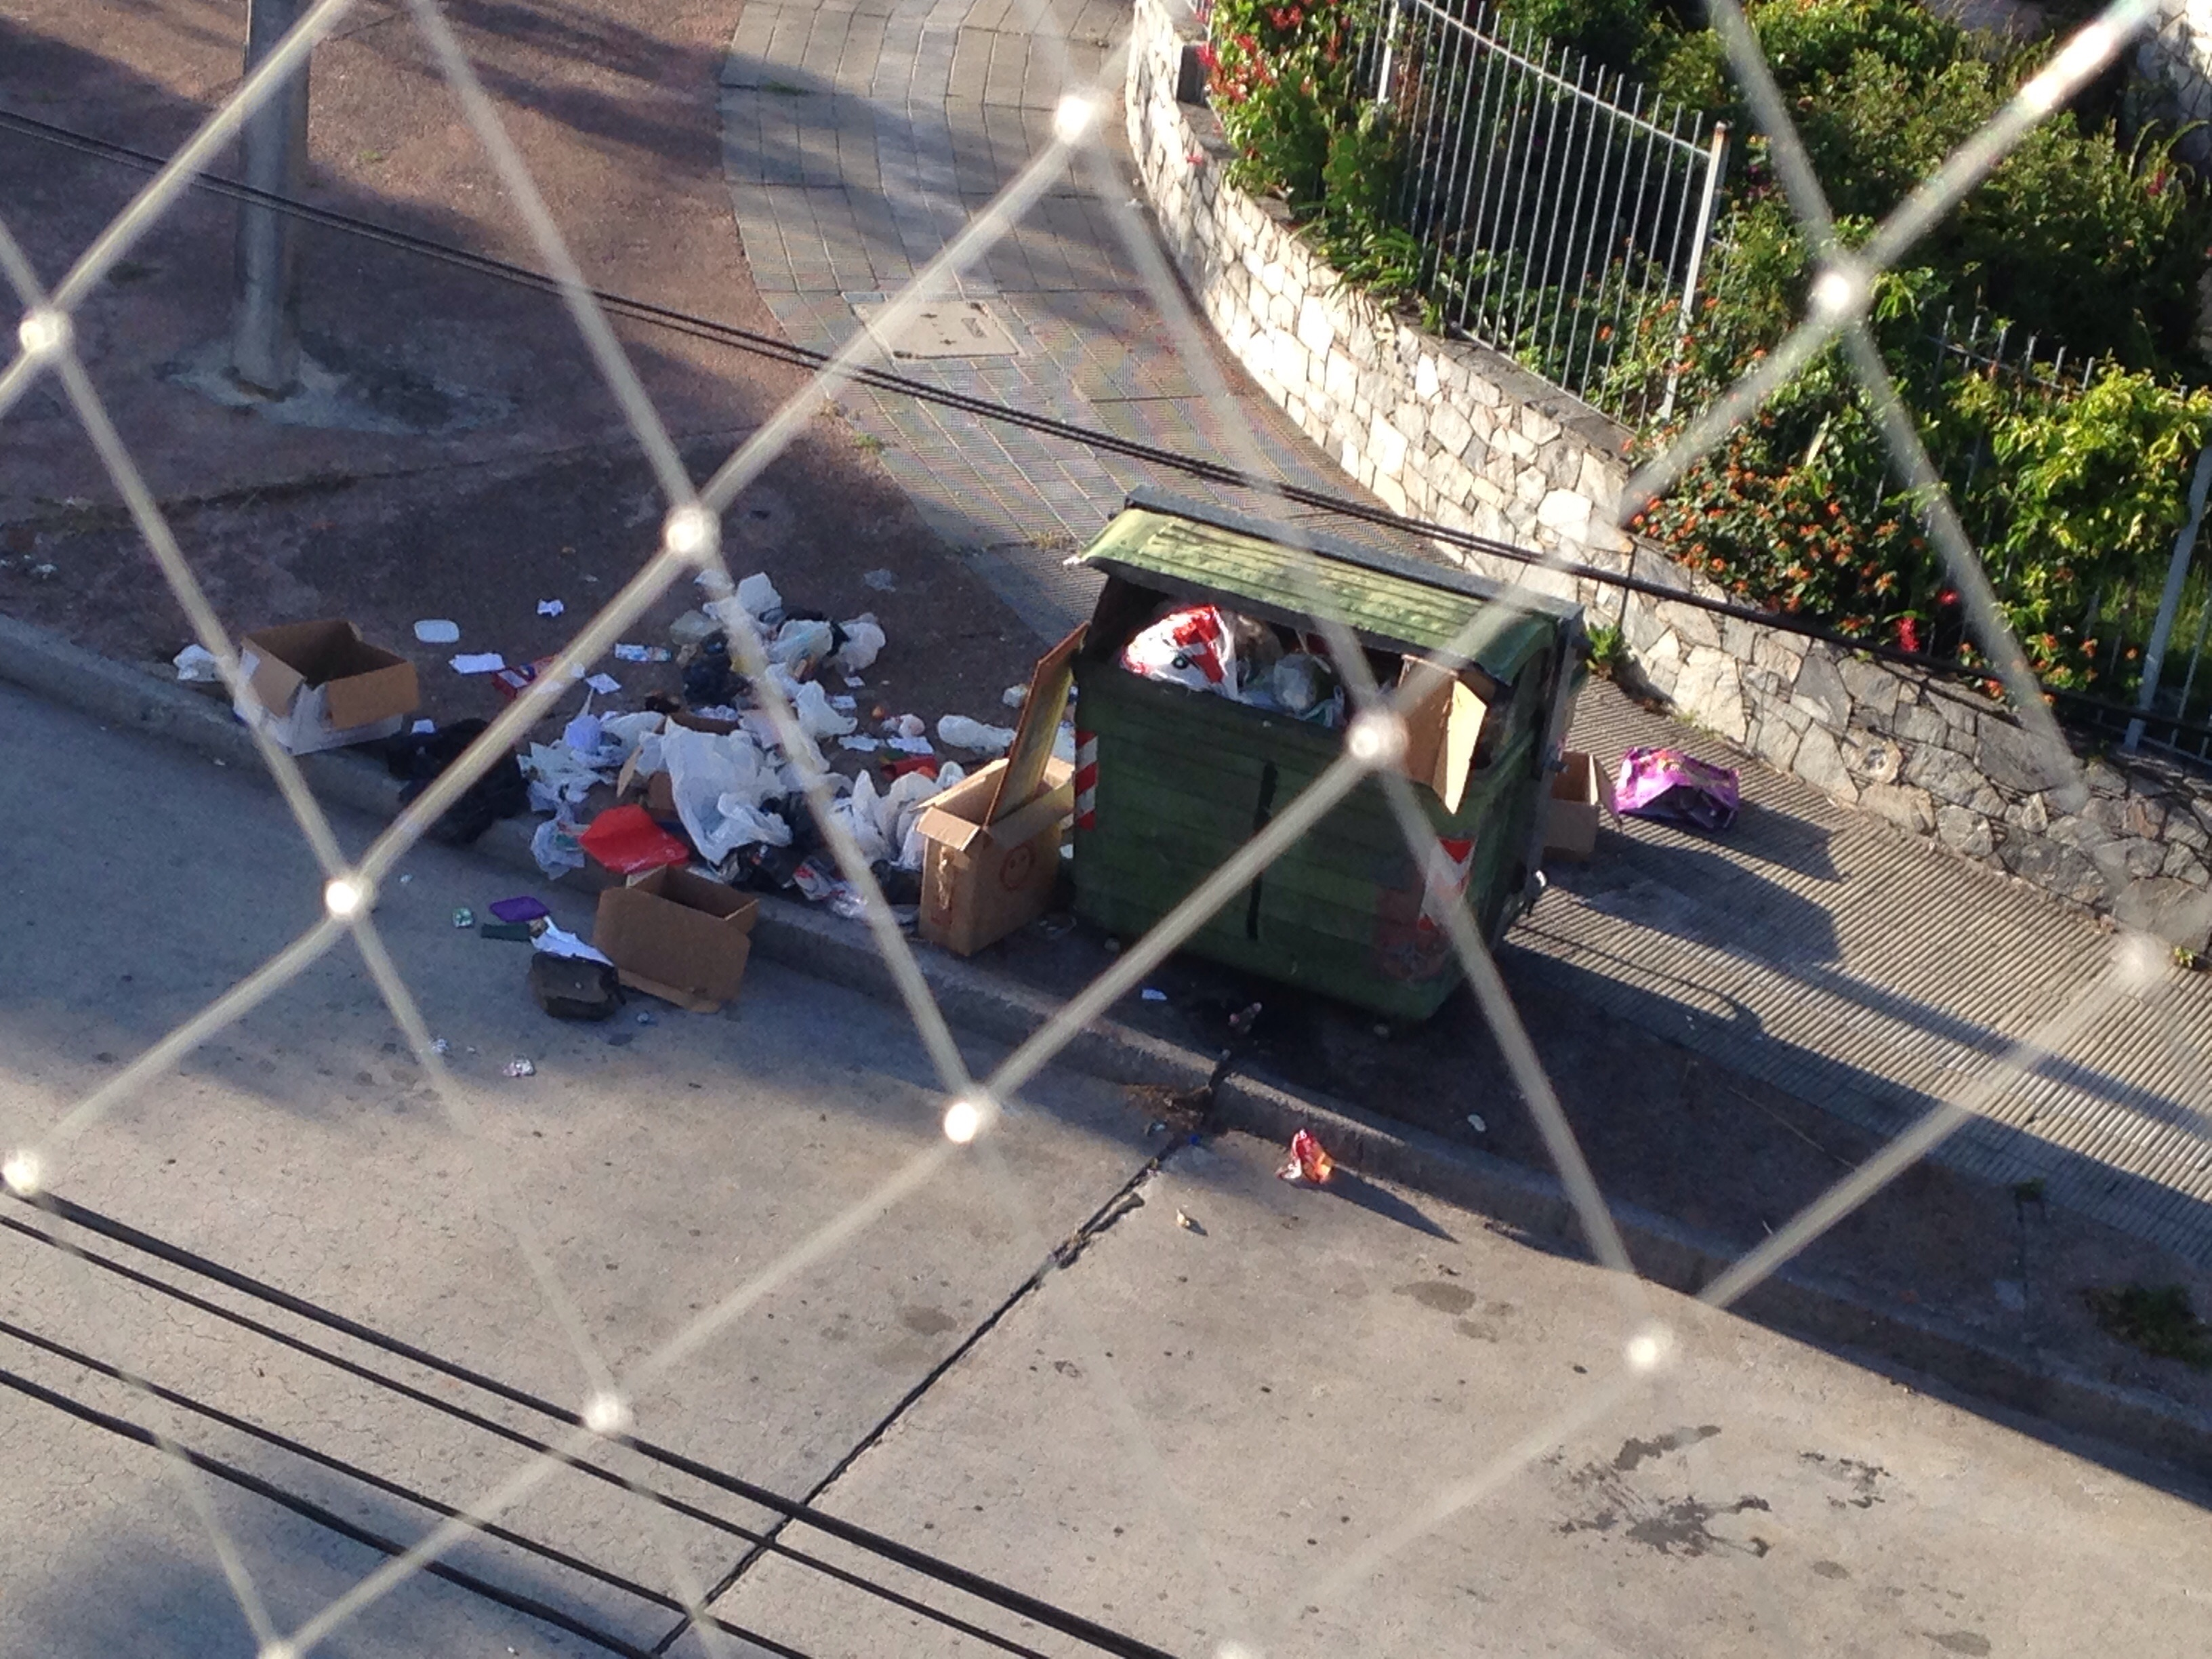container: (1047, 467, 1616, 1033)
